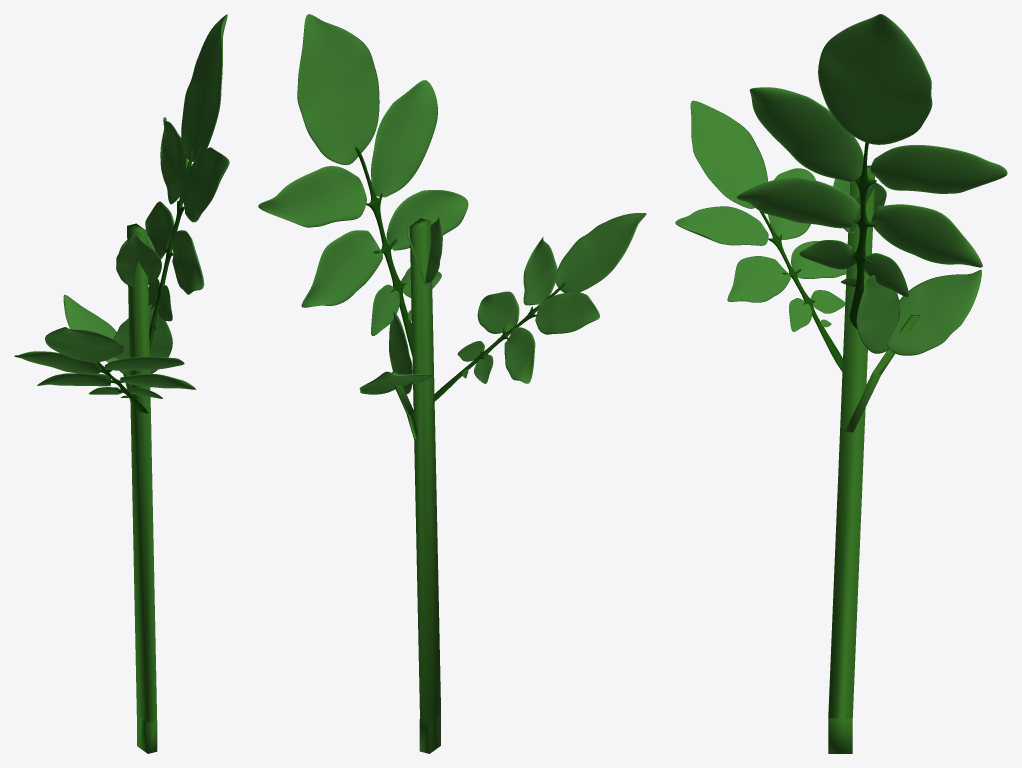
File: potato_2.glb
The picture shows the model from 3 angles, left to right: view 1: azimuth 30°, elevation 25°; view 2: azimuth 150°, elevation 25°; view 3: azimuth 270°, elevation 25°; orthographic projection. The views are drawn at different scales.
Parts seen in each view (by area): view 1: Plane.029, Plane.018, Plane.019, Plane.009, Plane.020, Plane.032, Plane.021, Plane.030, Plane.028, Plane.010, Plane.022, Plane.011 (+5 smaller); view 2: Plane.029, Plane.018, Plane.019, Plane.020, Plane.022, Plane.009, Plane.021, Plane.010, Plane.011, Plane.013, Plane.012, Plane.026 (+5 smaller); view 3: Plane.029, Plane.018, Plane.019, Plane.020, Plane.009, Plane.028, Plane.022, Plane.021, Plane.011, Plane.030, Plane.013, Plane.026 (+8 smaller).
Boxes of the visible parts, x1,y1,x2,y2 form: Plane.029: (127,223,157,753); Plane.018: (181,14,227,162); Plane.019: (180,147,229,222); Plane.009: (45,327,123,362); Plane.020: (160,117,187,204); Plane.032: (116,234,161,287); Plane.021: (170,230,204,294); Plane.030: (113,304,172,375); Plane.028: (63,295,118,362); Plane.010: (14,351,101,373); Plane.022: (145,201,174,258); Plane.011: (104,356,184,370); Plane.029: (409,218,440,753); Plane.018: (297,14,379,165); Plane.019: (371,80,437,197); Plane.020: (258,166,366,227); Plane.022: (301,230,382,307); Plane.009: (555,213,646,292); Plane.021: (386,190,468,250); Plane.010: (535,292,599,334); Plane.011: (523,237,557,305); Plane.013: (477,291,519,333); Plane.012: (504,327,535,383); Plane.026: (355,147,412,355); Plane.029: (828,165,874,753); Plane.018: (818,14,932,144); Plane.019: (749,87,863,181); Plane.020: (870,145,1007,193); Plane.009: (690,100,767,208); Plane.028: (887,270,981,355); Plane.022: (871,204,982,267); Plane.021: (736,177,860,228); Plane.011: (675,206,768,245); Plane.030: (856,275,899,353); Plane.013: (727,256,790,302); Plane.026: (848,142,876,328).
Bounding box in the file's own units: 0.2832 × 0.7625 × 0.2901.
